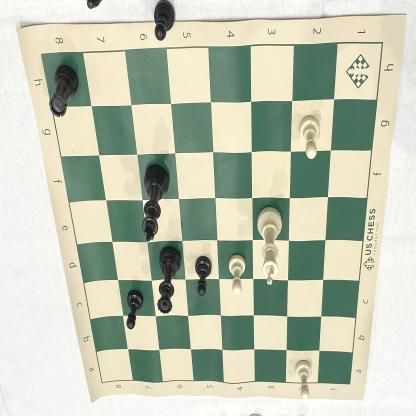black-king: (138, 160, 172, 243)
black-pawn: (193, 251, 214, 298), (125, 289, 145, 333)
black-queen: (157, 242, 182, 323)
black-rook: (49, 61, 83, 120)
white-king: (255, 203, 287, 288)
white-pawn: (296, 113, 325, 162), (292, 356, 315, 401), (227, 252, 249, 299)
